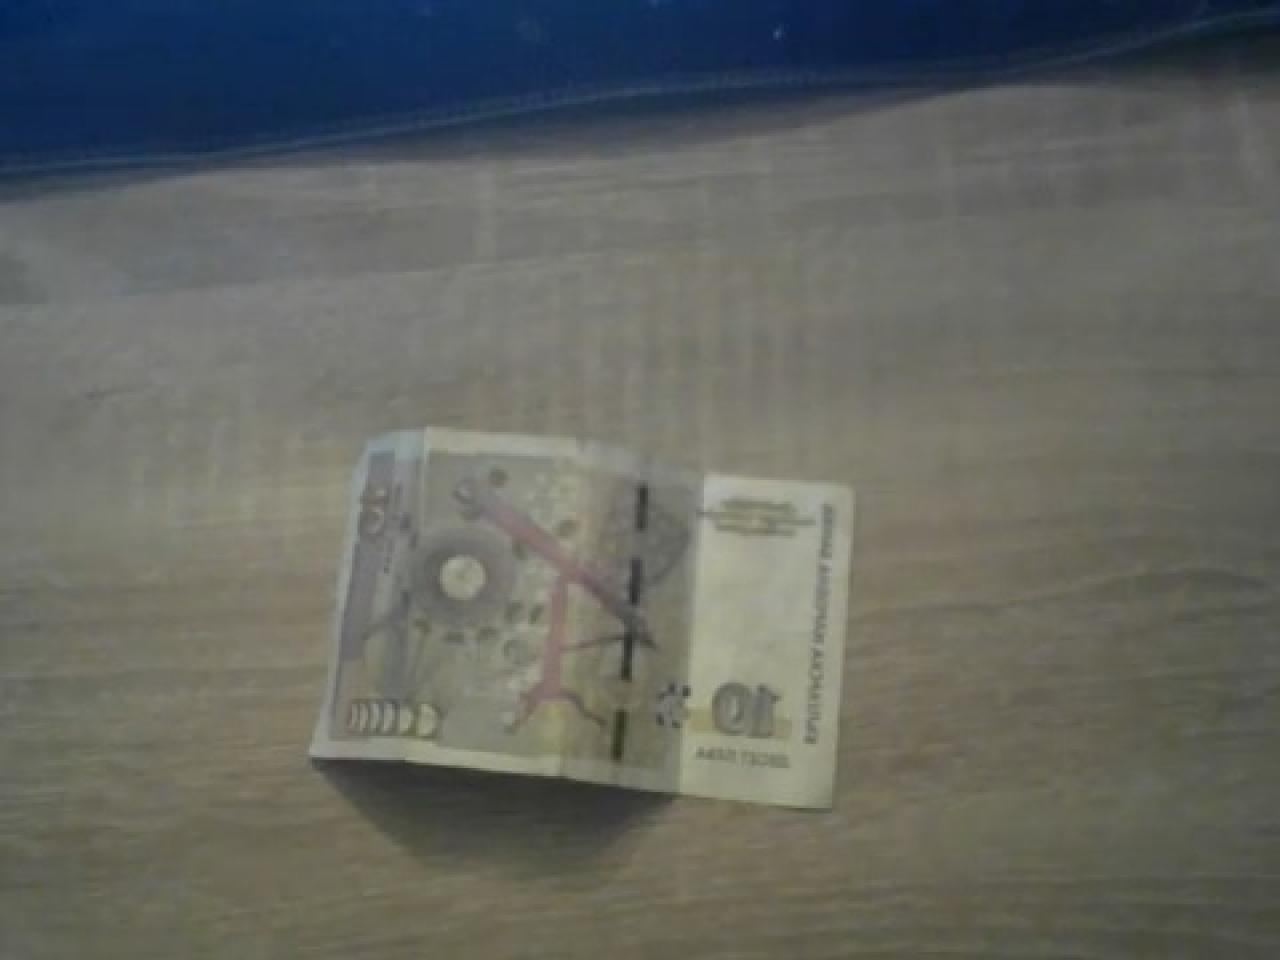10leva: (312, 432, 856, 814)
